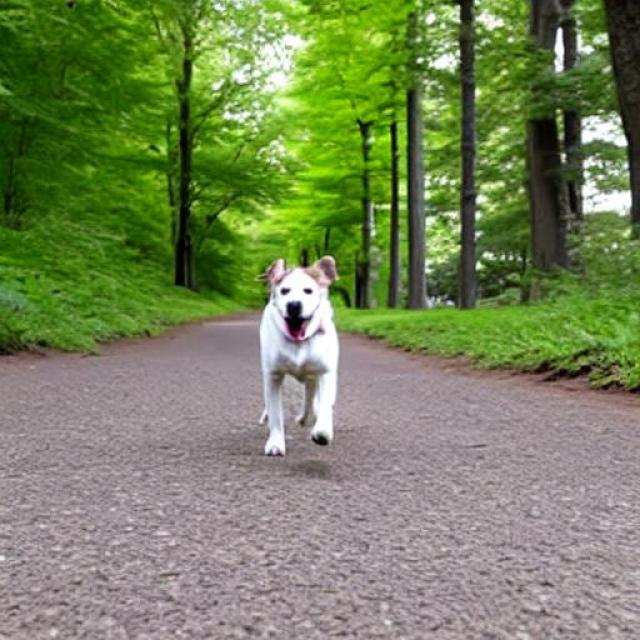Dog: (260, 256, 340, 457)
